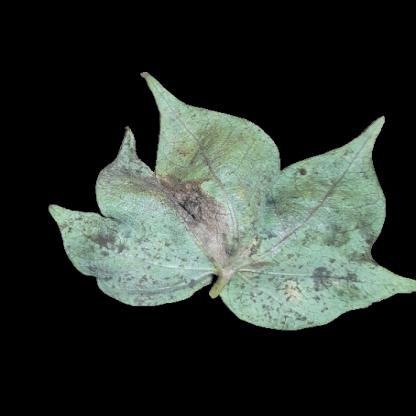curl_stage2: (155, 103, 212, 151)
sooty: (257, 176, 379, 260), (165, 184, 244, 275), (249, 259, 362, 320), (71, 215, 135, 272), (105, 268, 199, 304)
